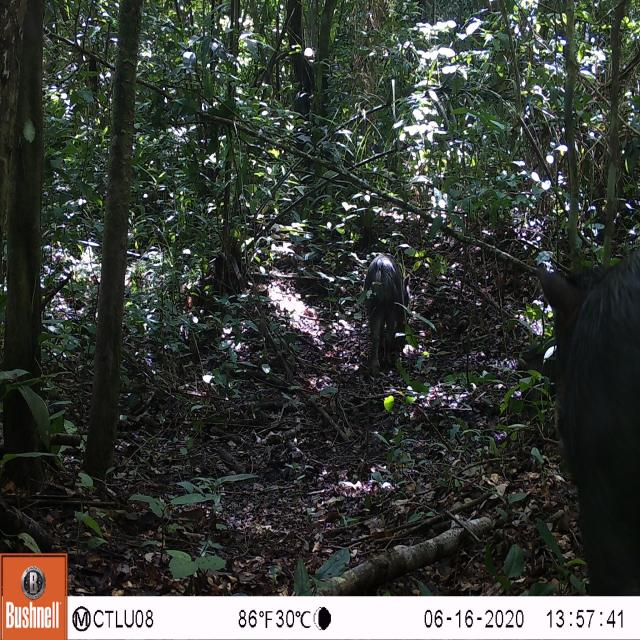Collared Peccary: (522, 230, 639, 600), (351, 242, 423, 382)
